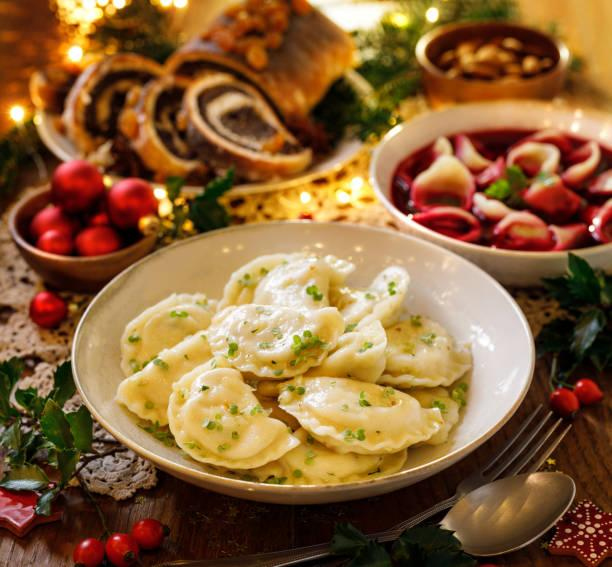Braised Crucian Carp: (71, 219, 533, 505), (361, 95, 612, 293)
